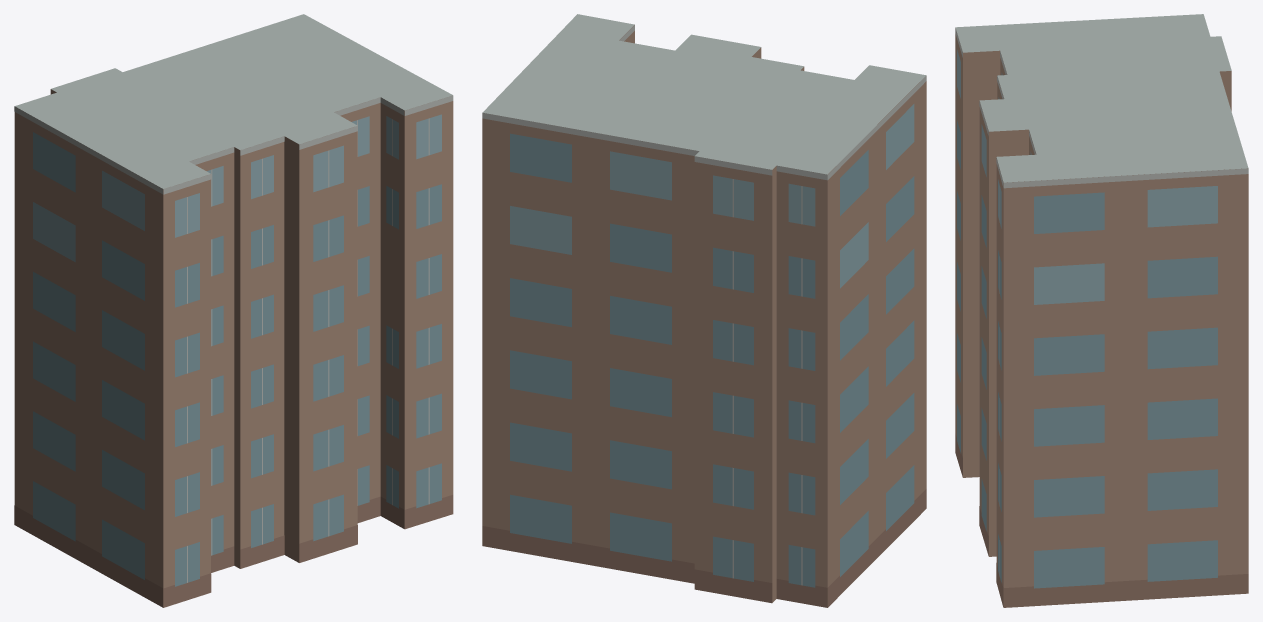
The model's file is survey-upis-32741541.glb.
The picture shows the model from 3 angles, left to right: view 1: azimuth 30°, elevation 25°; view 2: azimuth 150°, elevation 25°; view 3: azimuth 270°, elevation 25°; orthographic projection. The views are drawn at different scales.
Parts seen in each view (by area): view 1: survey-upis-32741541.tmp; view 2: survey-upis-32741541.tmp; view 3: survey-upis-32741541.tmp.
Part boxes in pixels (left/top/right/bottom): survey-upis-32741541.tmp: left=14, top=14, right=453, bottom=607; survey-upis-32741541.tmp: left=482, top=14, right=926, bottom=607; survey-upis-32741541.tmp: left=955, top=14, right=1248, bottom=607.
Bounding box in the file's own units: 15.57 × 18.3 × 11.45.
